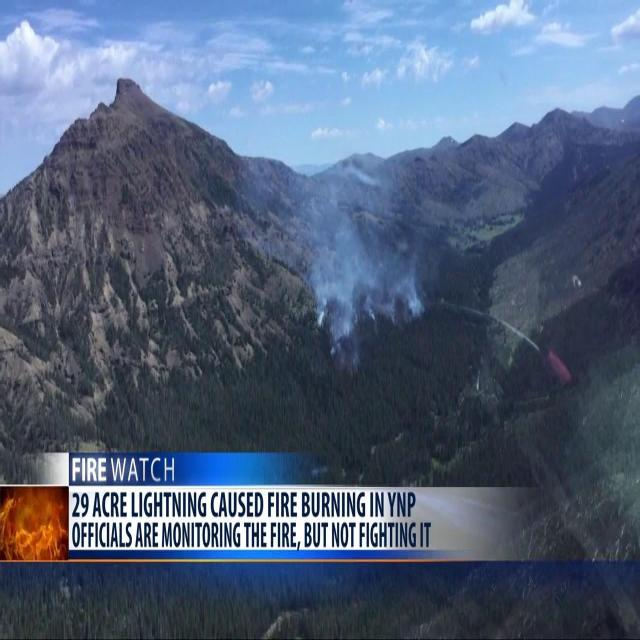Fire: (0, 488, 66, 557)
